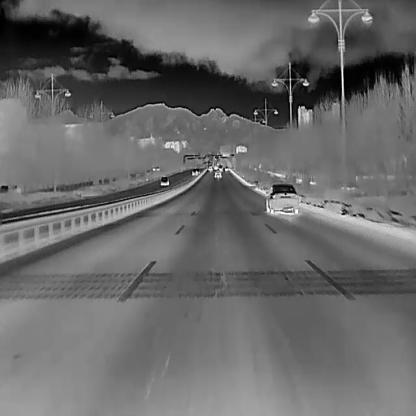car: (265, 182, 298, 214), (159, 175, 169, 185), (191, 168, 200, 176), (213, 169, 221, 178), (216, 164, 223, 169), (208, 165, 213, 171), (224, 164, 228, 170)
